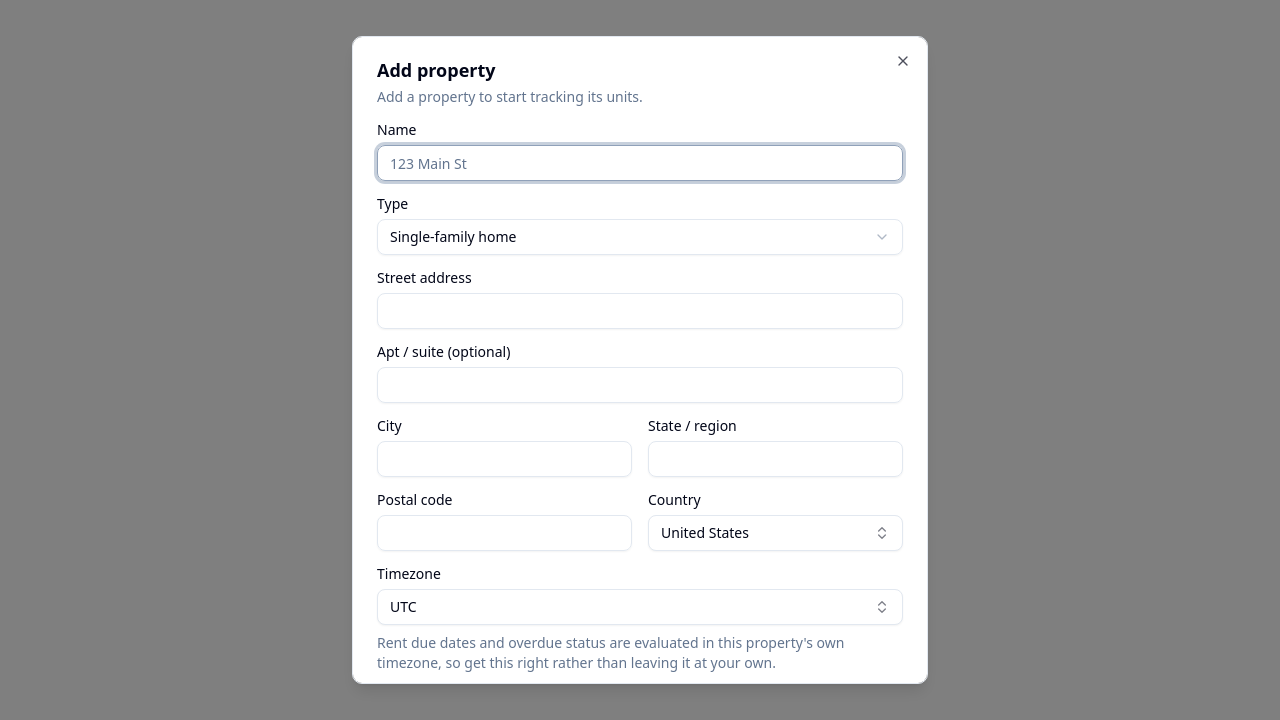
Test: PropertyFormDialog › lets the timezone be changed via the searchable combobox
Click the dropdown named "timezone" at (403, 606), box [377,589,903,625]
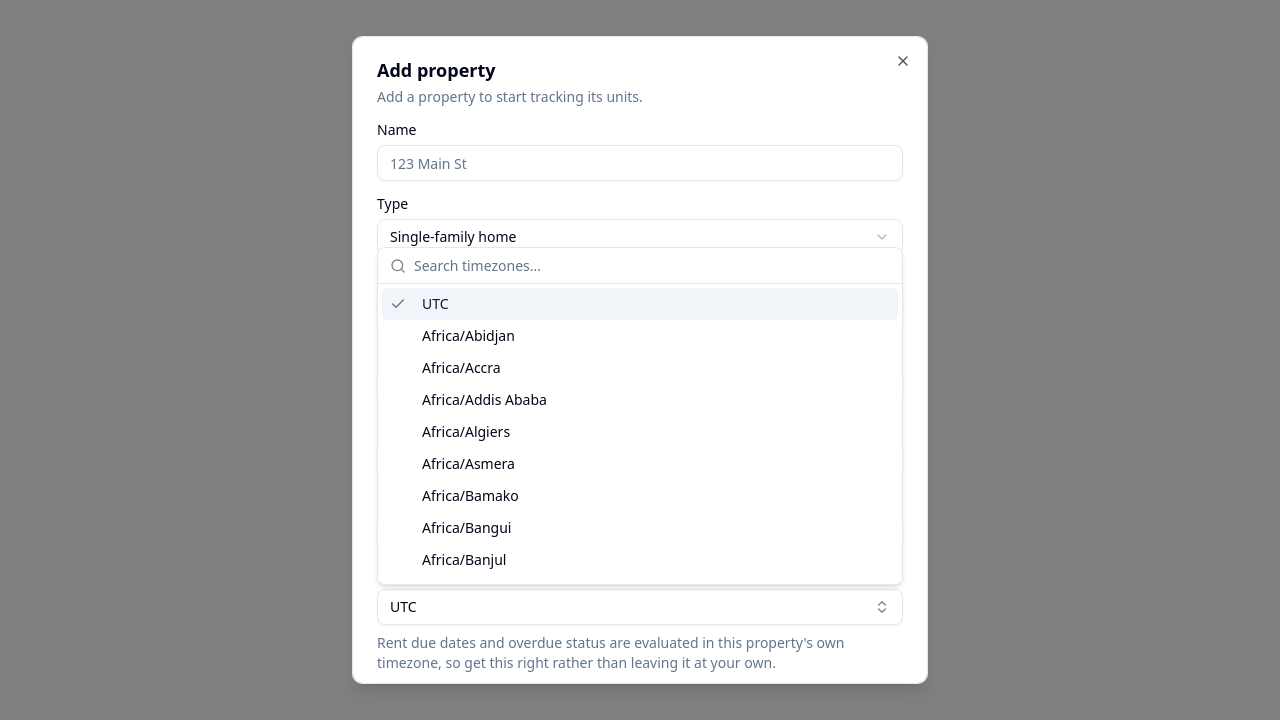
Type "Perth" into the dropdown with placeholder "Search timezones…" at (652, 266), box [414,246,890,286]
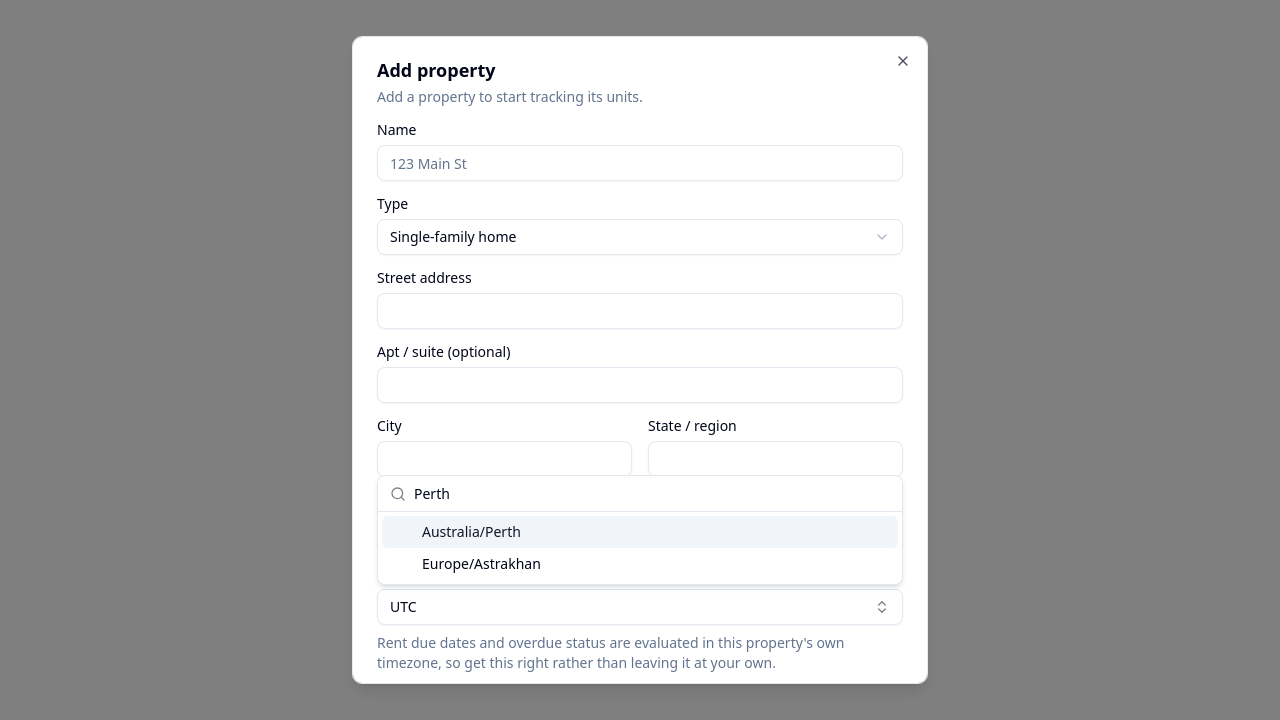
Click the option "Australia/Perth" at (471, 532), box [382,516,898,548]
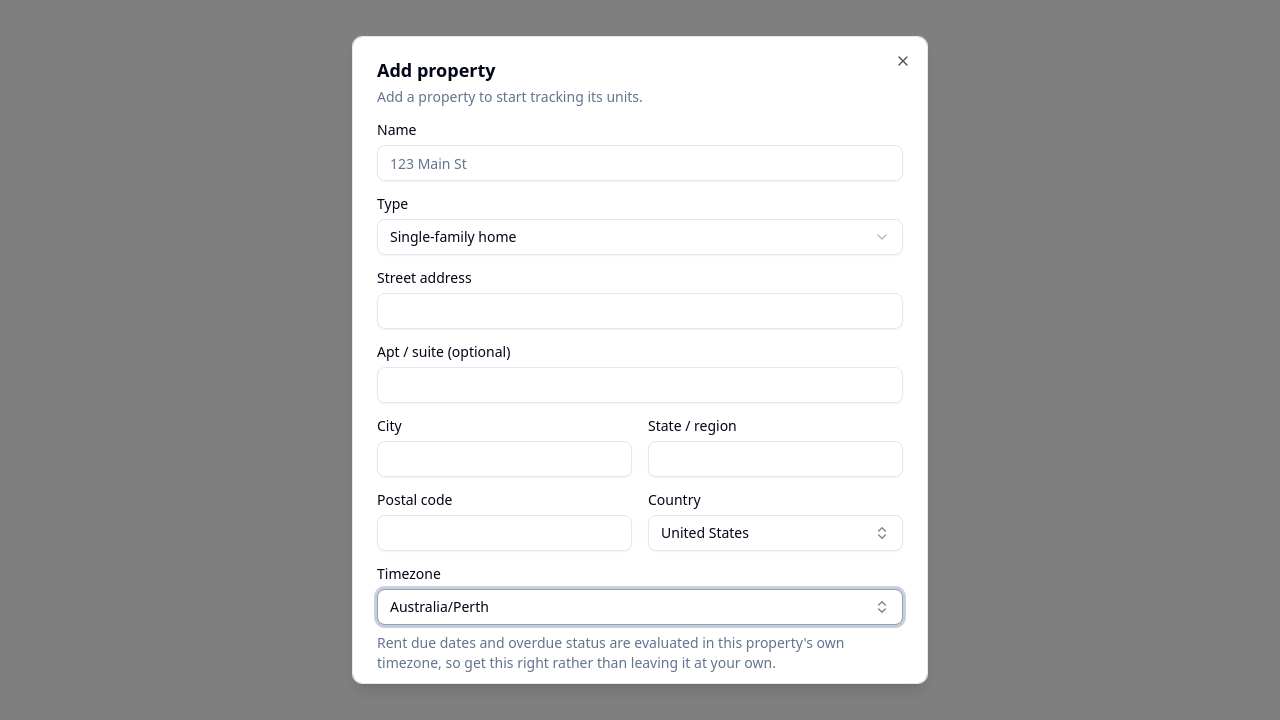
Expected: the dropdown named "timezone" reads "Australia/Perth", [377,589,903,625]
